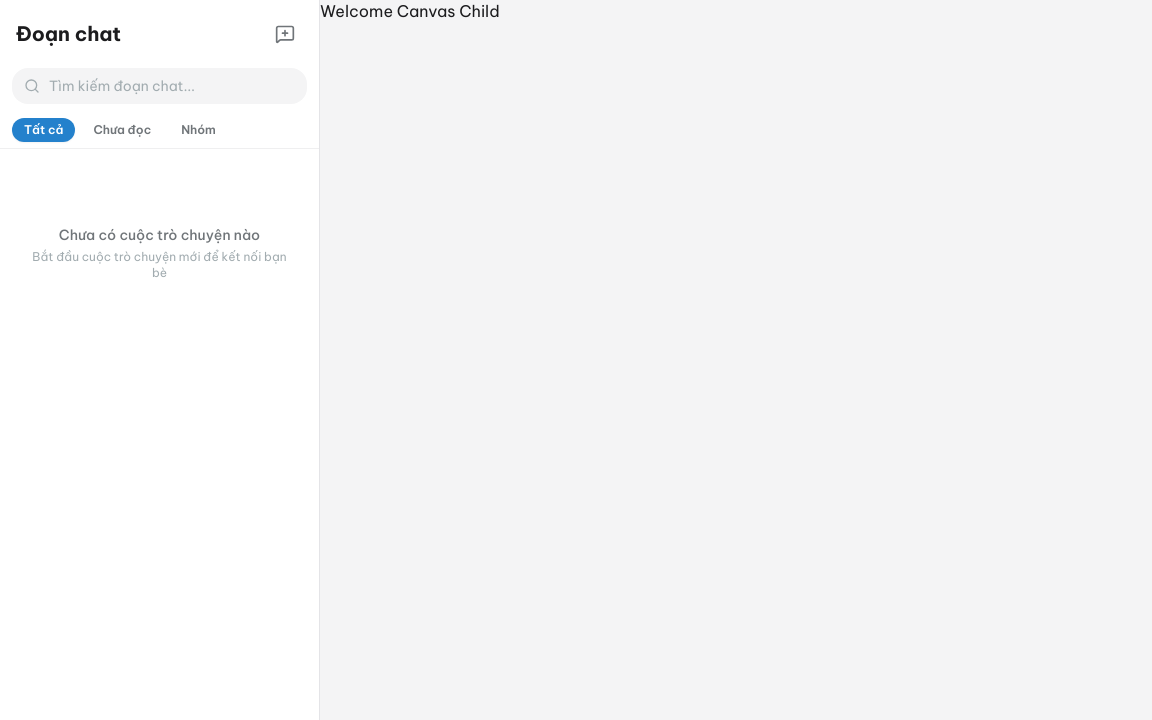
Test: ChatLayout Component Tests › opens CreateGroupModal when clicking the new chat button in sidebar
What coordinates should you click on to do the following:
click the button with test id "open-create-group-modal-btn"
I would click on:
 (285, 34)
Its box is [267, 16, 303, 52].
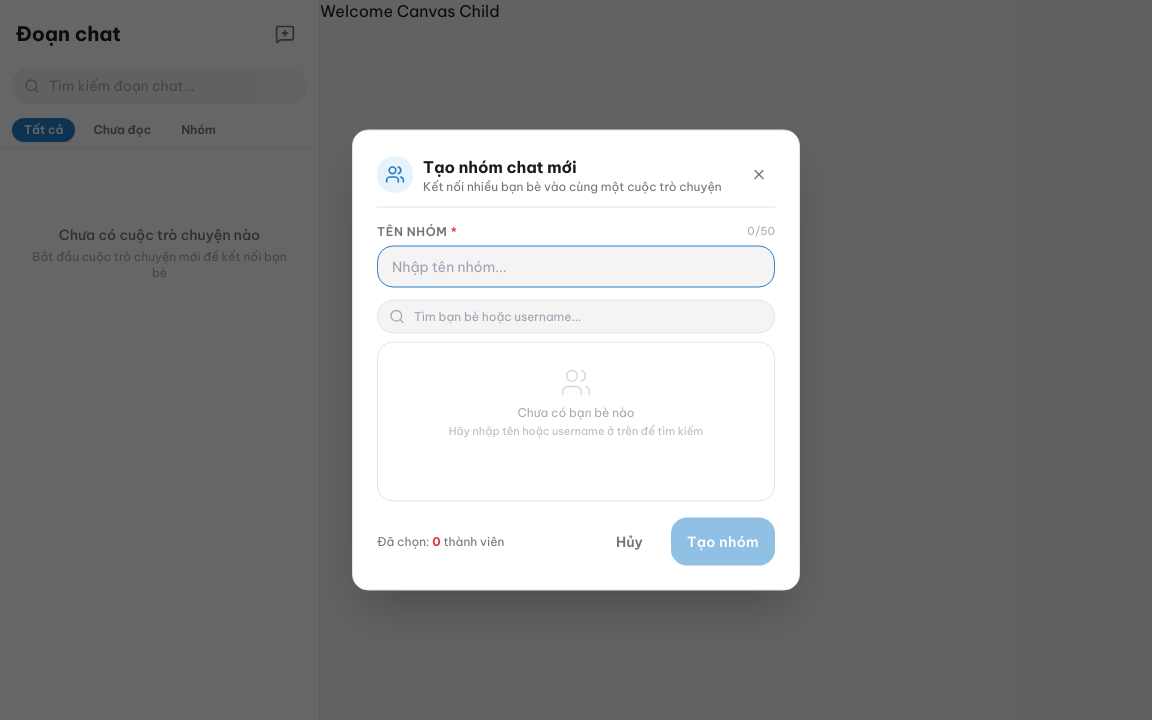
Expected: the heading "Tạo nhóm chat mới" is shown, [423, 156, 577, 176]
Expected: the dialog with test id "create-group-modal-content" is shown, [352, 130, 800, 590]
